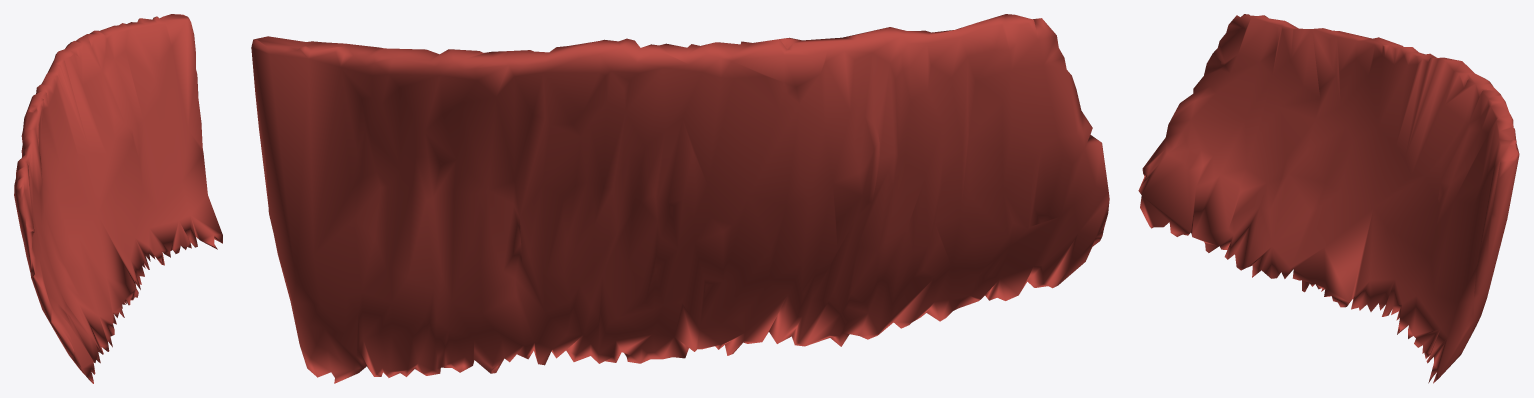
The model's file is musculos-occipitalis-muscle-r.glb.
3 renders of one model, left to right at view 1: azimuth 30°, elevation 25°; view 2: azimuth 150°, elevation 25°; view 3: azimuth 270°, elevation 25°, orthographic. The views are drawn at different scales.
Visible parts, largest first — view 1: Occipitalis muscle.r; view 2: Occipitalis muscle.r; view 3: Occipitalis muscle.r.
Boxes of the visible parts, x1,y1,x2,y2 form: Occipitalis muscle.r: (14,14,222,383); Occipitalis muscle.r: (251,14,1109,383); Occipitalis muscle.r: (1138,14,1519,383).
Bounding box in the file's own units: 0.0466 × 0.033 × 0.0466.
